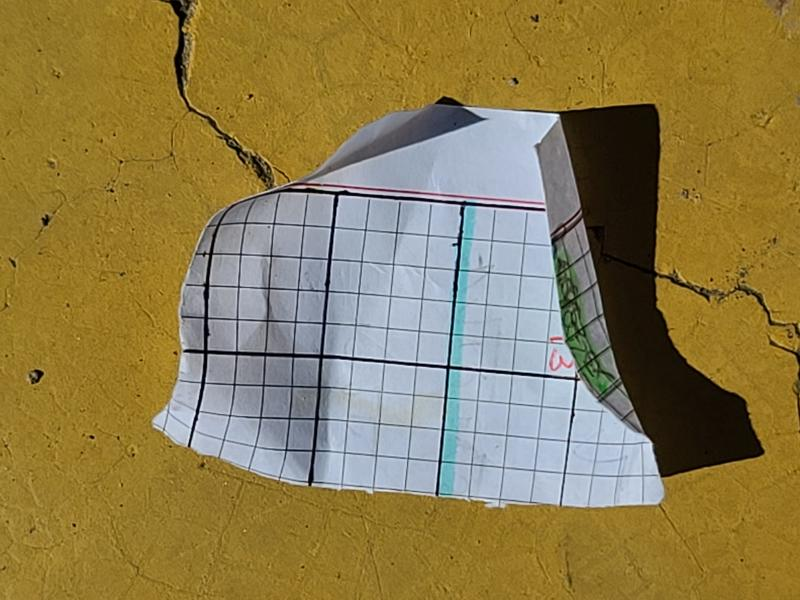papel: (151, 102, 665, 510)
